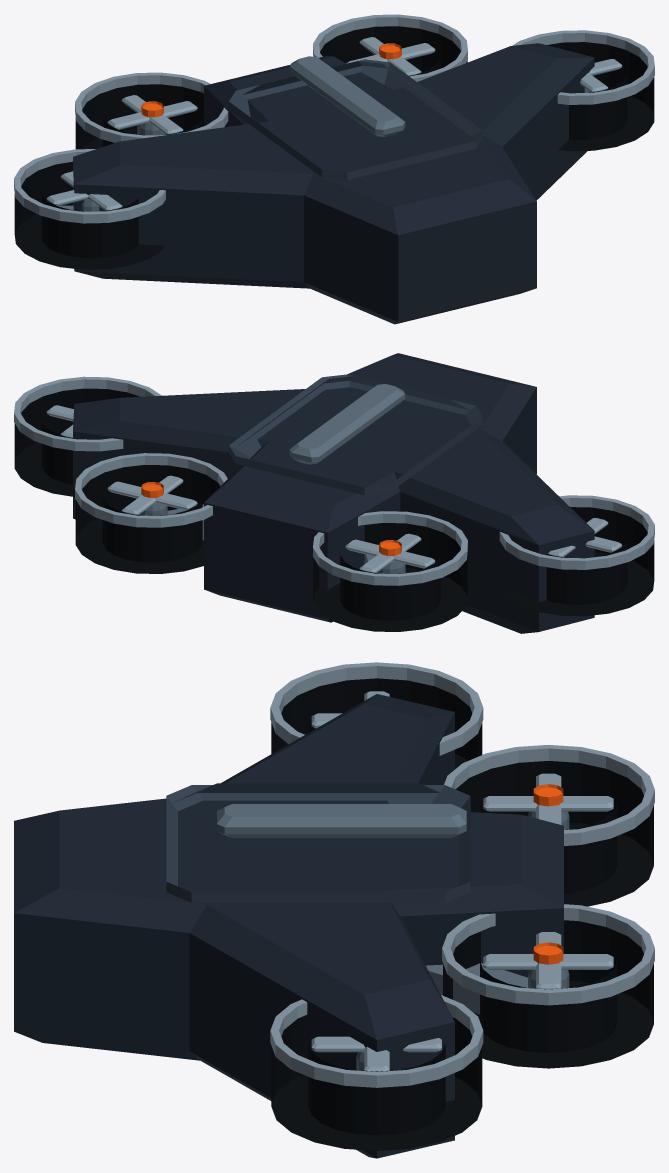
File: SF_FlankerDrone.obj
3 views of the same model, one above another, from view 1: azimuth 30°, elevation 25°; view 2: azimuth 150°, elevation 25°; view 3: azimuth 270°, elevation 25° (orthographic). The views are drawn at different scales.
Visible parts, largest first — view 1: Chassis, Duct0, Duct1, ArmourTop, Duct2, Spine, Duct3, DuctAccent1, DuctAccent0, DuctAccent2, DuctAccent3, Rotor2 (+3 smaller); view 2: Chassis, Duct3, Duct2, Duct0, ArmourTop, Duct1, DuctAccent3, DuctAccent2, Spine, DuctAccent0, DuctAccent1, Rotor3 (+3 smaller); view 3: Chassis, Duct3, Duct1, Duct2, ArmourTop, Spine, DuctAccent3, Duct0, DuctAccent2, DuctAccent1, DuctAccent0, Rotor3 (+3 smaller).
Part boxes in pixels (<box>): Chassis: <box>73,43,594,324</box>; Duct0: <box>14,161,164,269</box>; Duct1: <box>547,42,654,151</box>; ArmourTop: <box>229,59,482,180</box>; Duct2: <box>75,84,203,149</box>; Spine: <box>289,56,405,136</box>; Duct3: <box>320,26,467,76</box>; DuctAccent1: <box>512,30,654,104</box>; DuctAccent0: <box>14,149,165,223</box>; DuctAccent2: <box>75,72,228,142</box>; DuctAccent3: <box>313,14,467,81</box>; Rotor2: <box>107,95,197,135</box>; Chassis: <box>73,353,594,633</box>; Duct3: <box>75,465,220,573</box>; Duct2: <box>313,523,467,631</box>; Duct0: <box>501,507,654,616</box>; ArmourTop: <box>229,374,482,495</box>; Duct1: <box>14,388,139,496</box>; DuctAccent3: <box>75,453,227,527</box>; DuctAccent2: <box>313,511,467,585</box>; Spine: <box>289,384,405,464</box>; DuctAccent0: <box>499,495,654,569</box>; DuctAccent1: <box>14,376,161,451</box>; Rotor3: <box>107,475,197,515</box>; Chassis: <box>14,694,563,1158</box>; Duct3: <box>443,920,653,1068</box>; Duct1: <box>271,1016,482,1150</box>; Duct2: <box>455,761,653,906</box>; ArmourTop: <box>166,783,470,902</box>; Spine: <box>217,804,466,838</box>; DuctAccent3: <box>442,904,654,1005</box>; Duct0: <box>271,678,482,768</box>; DuctAccent2: <box>444,745,654,845</box>; DuctAccent1: <box>270,995,483,1087</box>; DuctAccent0: <box>270,662,483,755</box>; Rotor3: <box>483,932,613,989</box>.
Size of the model in its own units: 2.51 by 0.635 by 1.64.
